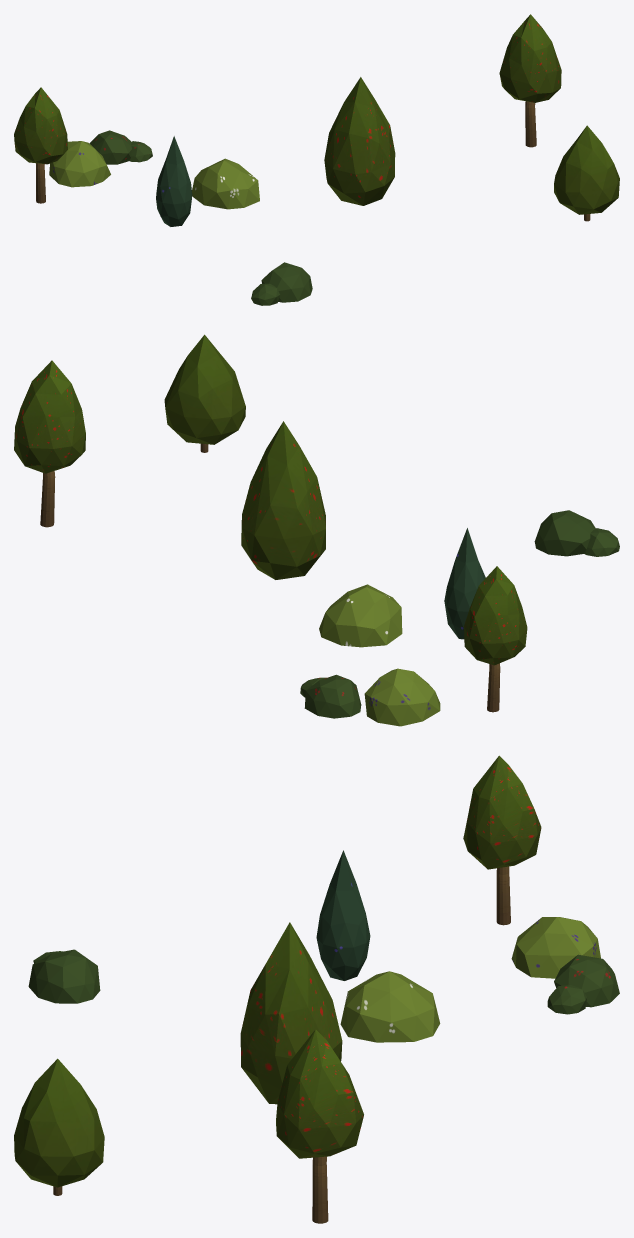
File: Bushes6.gltf
3 renders of one model, top to bottom at view 1: azimuth 30°, elevation 25°; view 2: azimuth 150°, elevation 25°; view 3: azimuth 270°, elevation 25°, orthographic. The views are drawn at different scales.
Parts seen in each view (by area): view 1: Hollytree3 - copy.016, Hollytree1 - copy.005, Hollytree2 - copy.008, Hollytree1 - copy.021, ElderberryBush1 - copy.008, JuniperBush2 - copy.025, ElderberryBush2 - copy.010, StrawberryBush1 - copy.019, StrawberryBush2 - copy.020; view 2: Hollytree3 - copy.016, Hollytree1 - copy.005, Hollytree2 - copy.008, Hollytree1 - copy.021, ElderberryBush1 - copy.008, ElderberryBush2 - copy.010, StrawberryBush1 - copy.019, JuniperBush2 - copy.025, StrawberryBush2 - copy.020; view 3: Hollytree3 - copy.016, Hollytree1 - copy.005, Hollytree2 - copy.008, Hollytree1 - copy.021, ElderberryBush1 - copy.008, JuniperBush2 - copy.025, ElderberryBush2 - copy.010, StrawberryBush1 - copy.019, StrawberryBush2 - copy.020.
Part boxes in pixels (x1,y1,x2,y2): Hollytree3 - copy.016: [324, 77, 395, 205]; Hollytree1 - copy.005: [499, 14, 561, 147]; Hollytree2 - copy.008: [554, 125, 619, 221]; Hollytree1 - copy.021: [14, 87, 67, 203]; ElderberryBush1 - copy.008: [192, 158, 259, 209]; JuniperBush2 - copy.025: [156, 136, 192, 226]; ElderberryBush2 - copy.010: [49, 141, 110, 187]; StrawberryBush1 - copy.019: [251, 262, 312, 305]; StrawberryBush2 - copy.020: [89, 130, 152, 164]; Hollytree3 - copy.016: [241, 421, 325, 579]; Hollytree1 - copy.005: [14, 360, 85, 527]; Hollytree2 - copy.008: [164, 334, 245, 452]; Hollytree1 - copy.021: [464, 566, 527, 712]; ElderberryBush1 - copy.008: [319, 584, 402, 647]; ElderberryBush2 - copy.010: [364, 668, 440, 726]; StrawberryBush1 - copy.019: [534, 510, 619, 556]; JuniperBush2 - copy.025: [444, 528, 485, 639]; StrawberryBush2 - copy.020: [300, 674, 361, 718]; Hollytree3 - copy.016: [240, 922, 342, 1104]; Hollytree1 - copy.005: [276, 1029, 363, 1223]; Hollytree2 - copy.008: [14, 1058, 104, 1195]; Hollytree1 - copy.021: [463, 755, 541, 925]; ElderberryBush1 - copy.008: [340, 971, 440, 1042]; JuniperBush2 - copy.025: [316, 850, 370, 980]; ElderberryBush2 - copy.010: [511, 917, 600, 978]; StrawberryBush1 - copy.019: [28, 949, 100, 1003]; StrawberryBush2 - copy.020: [547, 954, 619, 1014].
Bounding box in the file's own units: 15.95 × 4.35 × 12.37.
Materials: 8 (8 with a texture image).
